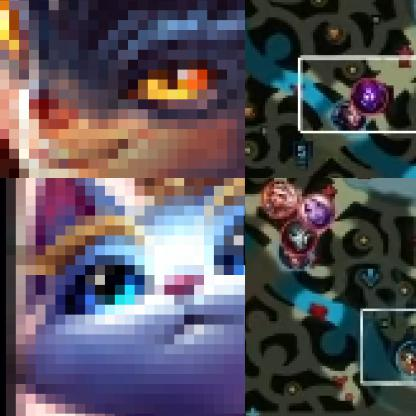Draven: (276, 237, 314, 271)
Jhin: (279, 220, 318, 254)
Leblanc: (330, 100, 370, 135)
Malzahar: (350, 77, 390, 114)
Qiyana: (262, 179, 300, 218)
Renekton: (395, 338, 415, 378)
Rumble: (0, 0, 244, 177)
Soraka: (298, 192, 337, 229)
Yuumi: (0, 178, 244, 415)
